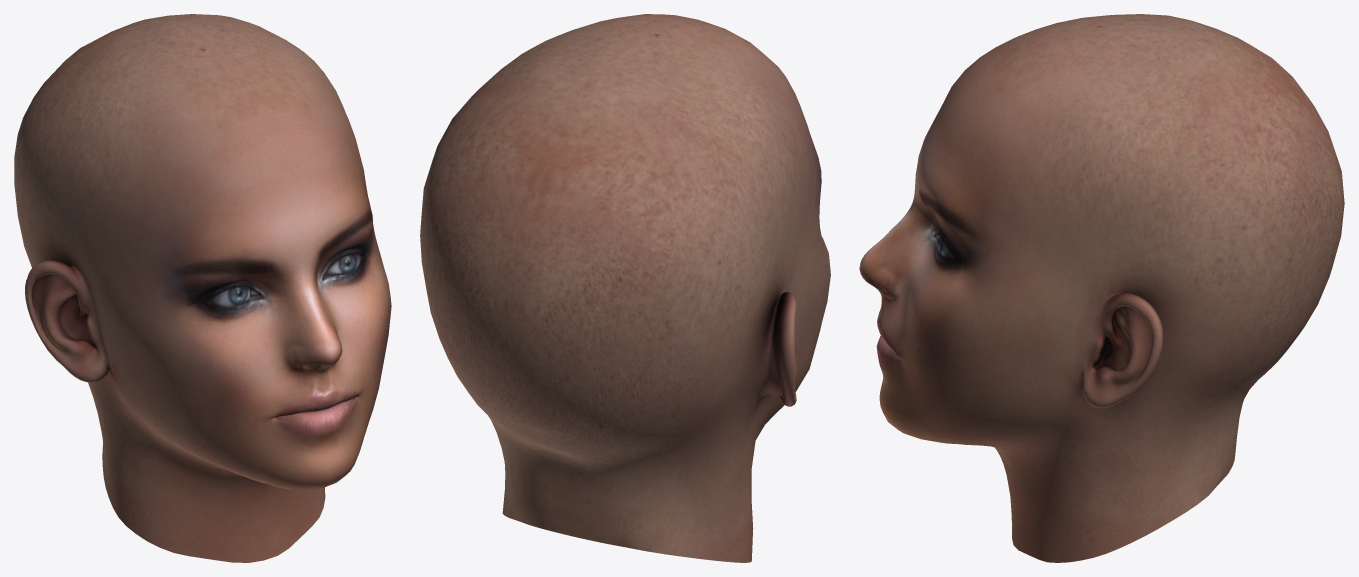
Rendered from lisa_blendshapes.glb.
3 renders of one model, left to right at view 1: azimuth 30°, elevation 25°; view 2: azimuth 150°, elevation 25°; view 3: azimuth 270°, elevation 25°, orthographic. The views are drawn at different scales.
Visible parts, largest first — view 1: Head; view 2: Head; view 3: Head.
Boxes of the visible parts, x1=… form: Head: x1=14, y1=14, x2=391, y2=562; Head: x1=420, y1=14, x2=830, y2=562; Head: x1=859, y1=14, x2=1344, y2=562.
Bounding box in the file's own units: 0.1904 × 0.2705 × 0.2355.
Materials: 1 (1 with a texture image).
